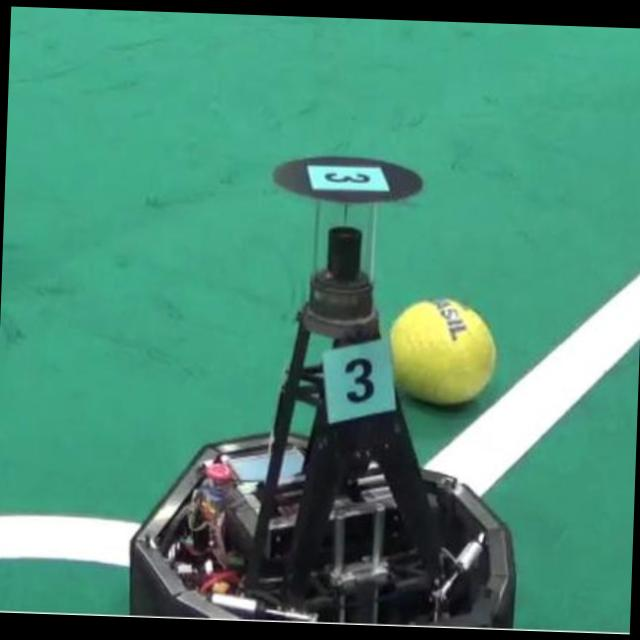ball: (391, 300, 495, 404)
robot: (131, 156, 514, 627)
